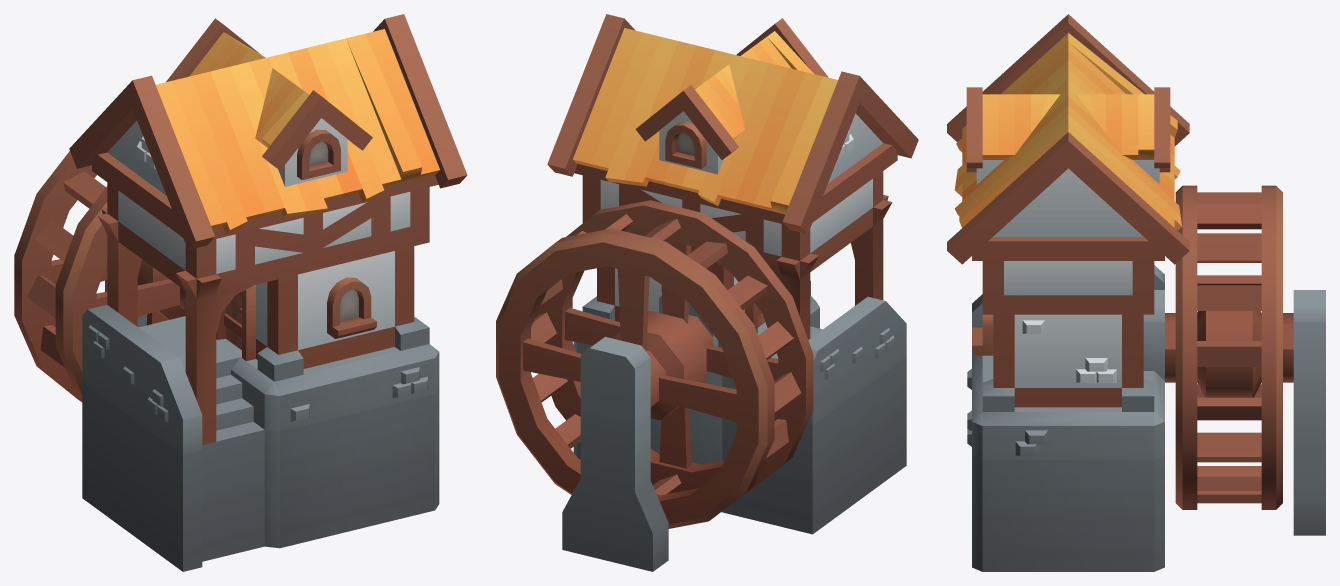
Rendered from building_watermill_yellow.glb.
3 views of the same model, side by side, from view 1: azimuth 30°, elevation 25°; view 2: azimuth 150°, elevation 25°; view 3: azimuth 270°, elevation 25° (orthographic). The views are drawn at different scales.
Parts seen in each view (by area): view 1: building_watermill_yellow, building_watermill_wheel_yellow; view 2: building_watermill_yellow, building_watermill_wheel_yellow; view 3: building_watermill_yellow, building_watermill_wheel_yellow.
Boxes of the visible parts, <box> form: building_watermill_yellow: <box>69,14,467,571</box>; building_watermill_wheel_yellow: <box>14,151,185,402</box>; building_watermill_yellow: <box>547,14,918,571</box>; building_watermill_wheel_yellow: <box>496,200,813,528</box>; building_watermill_yellow: <box>947,14,1325,571</box>; building_watermill_wheel_yellow: <box>1165,185,1293,509</box>.
Size of the model in its own units: 1.05 by 1.57 by 1.24.
Materials: 1 (1 with a texture image).
